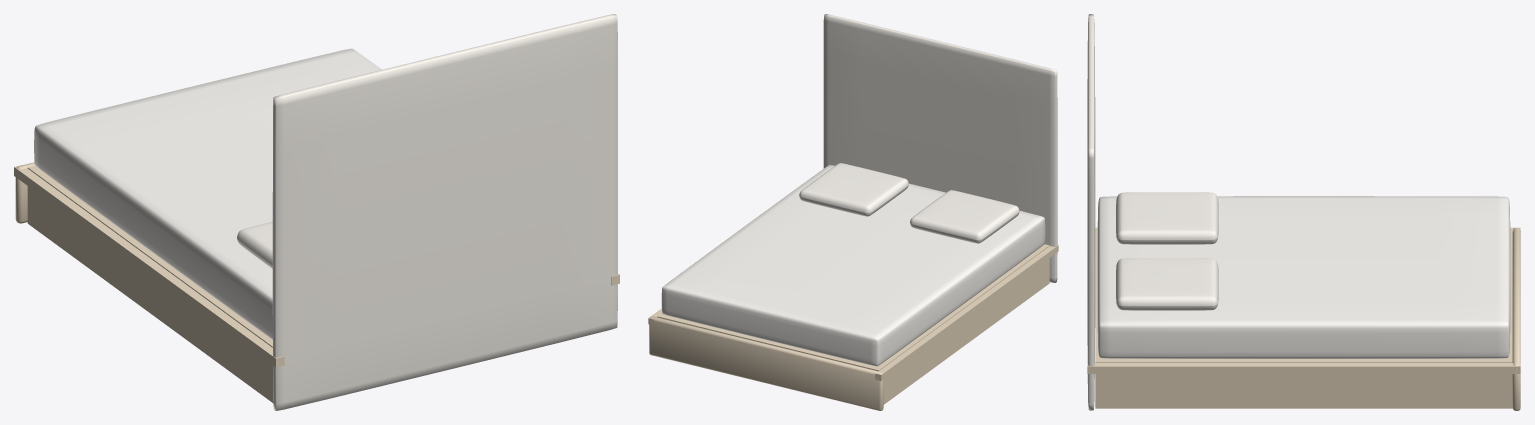
The picture shows the model from 3 angles, left to right: view 1: azimuth 30°, elevation 25°; view 2: azimuth 150°, elevation 25°; view 3: azimuth 270°, elevation 25°; orthographic projection. The views are drawn at different scales.
Bounding box in the file's own units: 1.6 × 1.4 × 2.11.
